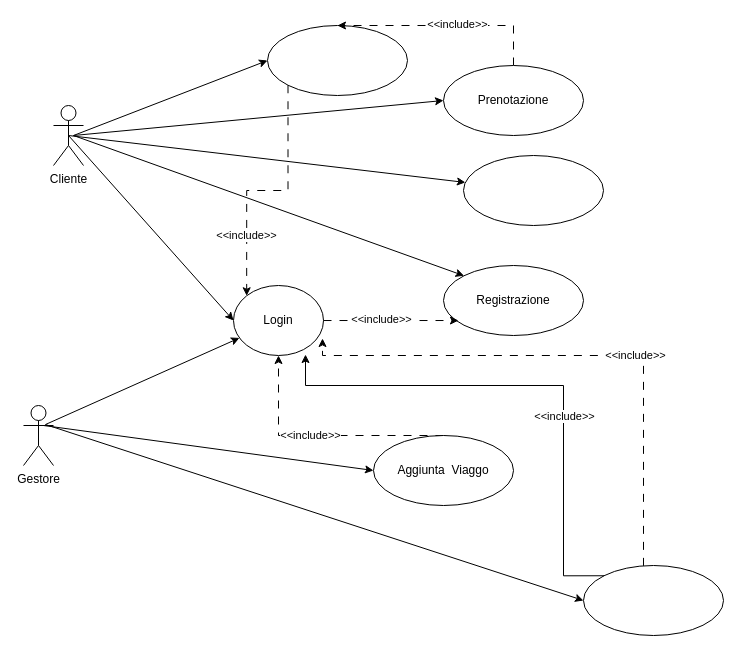
Some shapes in this 741 by 653 pixel diagram are drawn without their labels. The shapes that lost their labels are listed below. From the top down, each one's box as (x1, y1, x2, y2) in pixels, then its label:
(266, 24, 408, 96): Pagamento
(462, 154, 604, 226): Visione Catalogo
(582, 564, 724, 636): Modifica Viaggio
